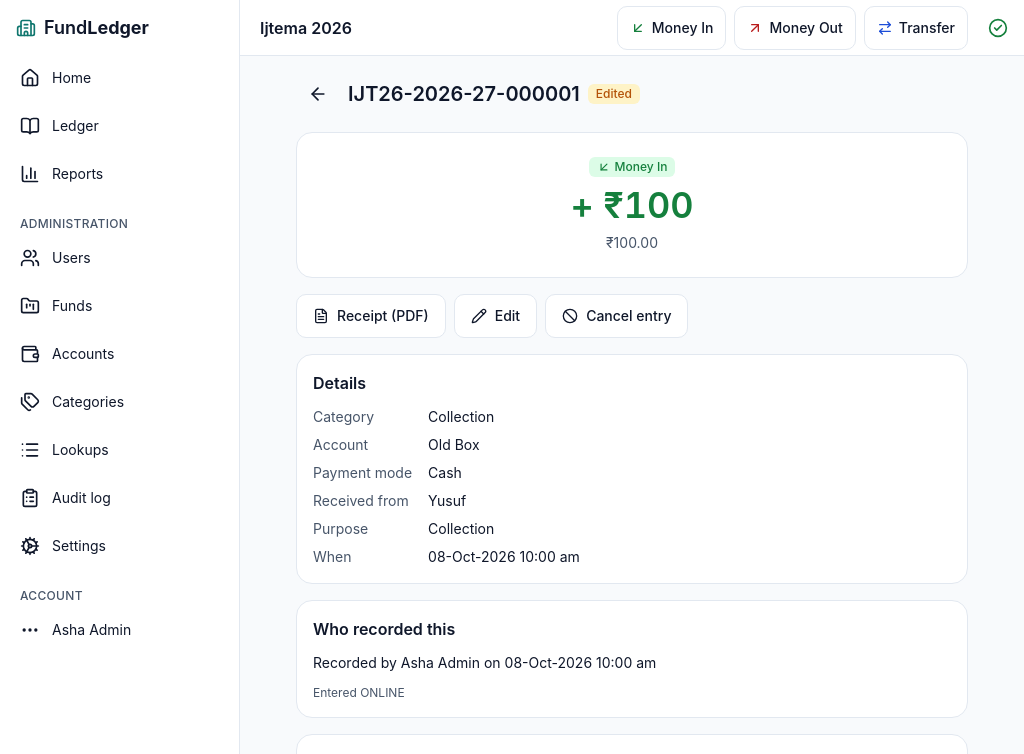
Test case: Transaction detail, edit and cancel › cancels with a reason and the revision it saw
Click the button "Cancel entry": (617, 316) top-left (545, 294), bottom-right (688, 338)
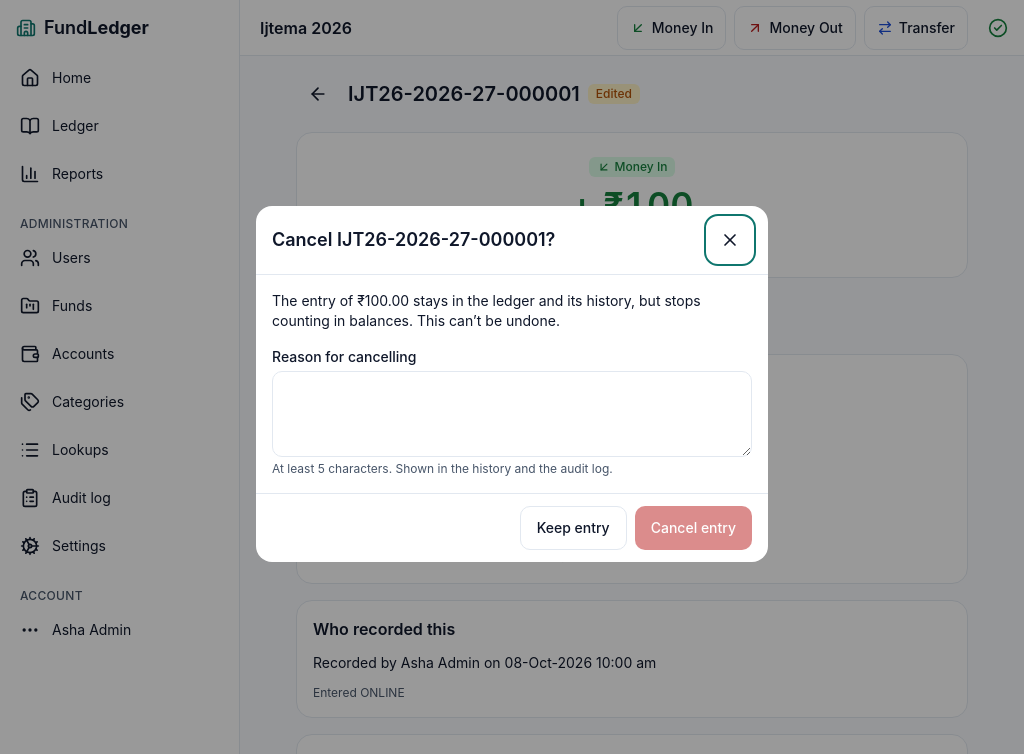
Expected: the button "Cancel entry" is disabled, top-left (635, 506), bottom-right (752, 550)
In the text box labelled "Reason for cancelling": (512, 414) top-left (272, 371), bottom-right (752, 457), type "Entered twice"
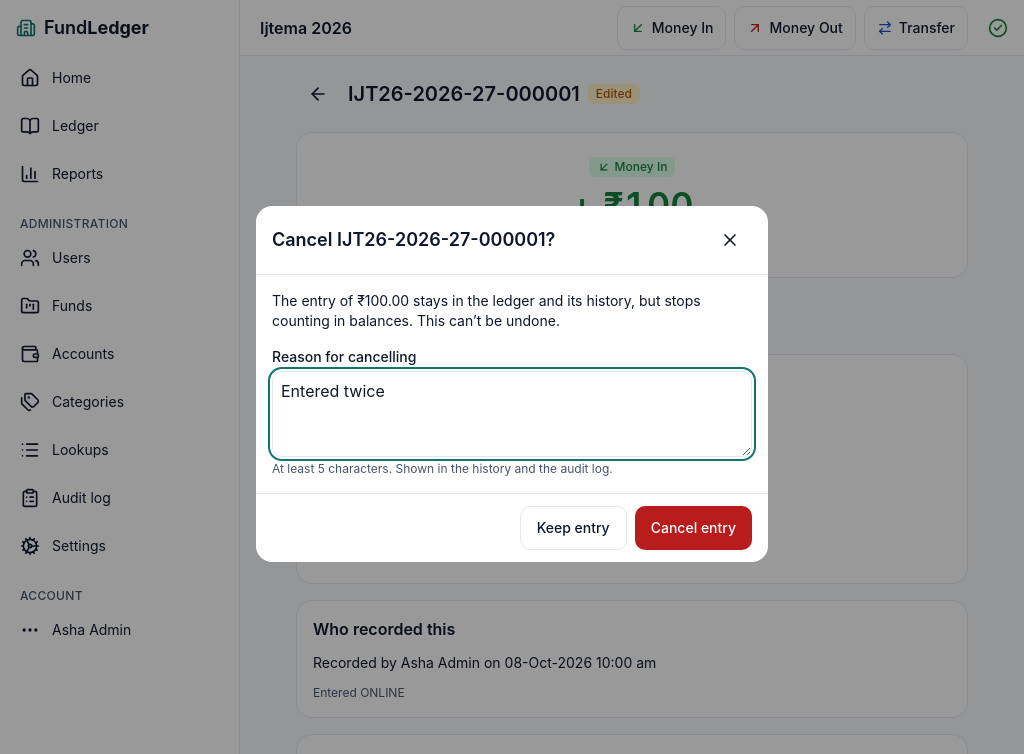
Click the button "Cancel entry": (693, 528) top-left (635, 506), bottom-right (752, 550)
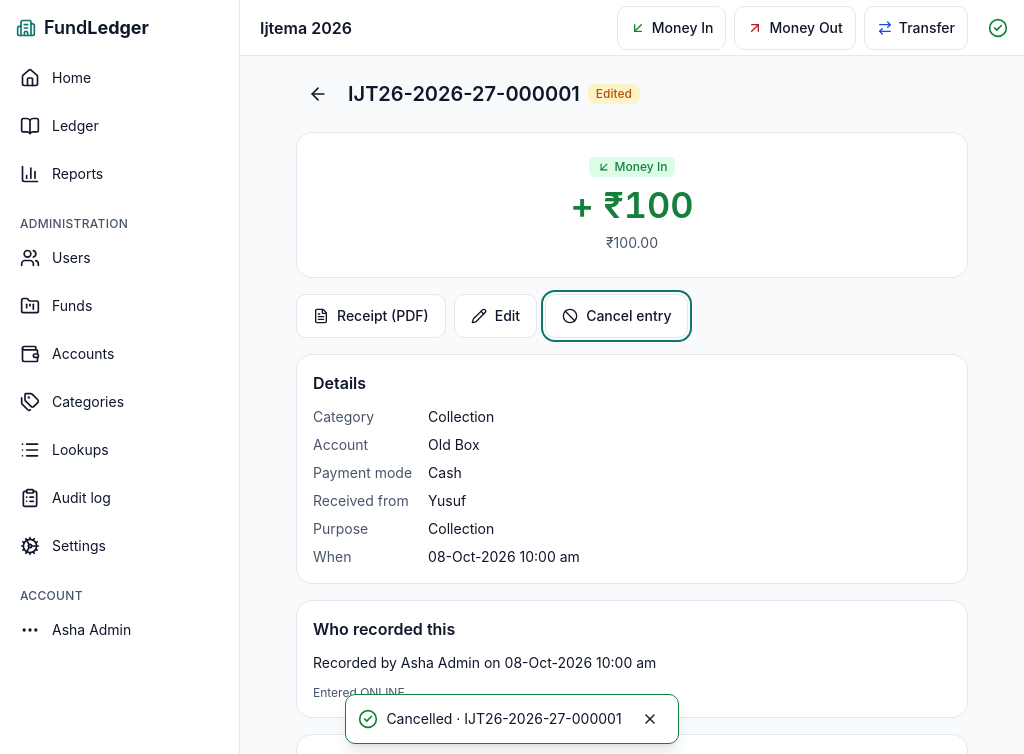
Expected: the text "Cancelled · IJT26-2026-27-000001" is shown, top-left (386, 709), bottom-right (622, 729)
